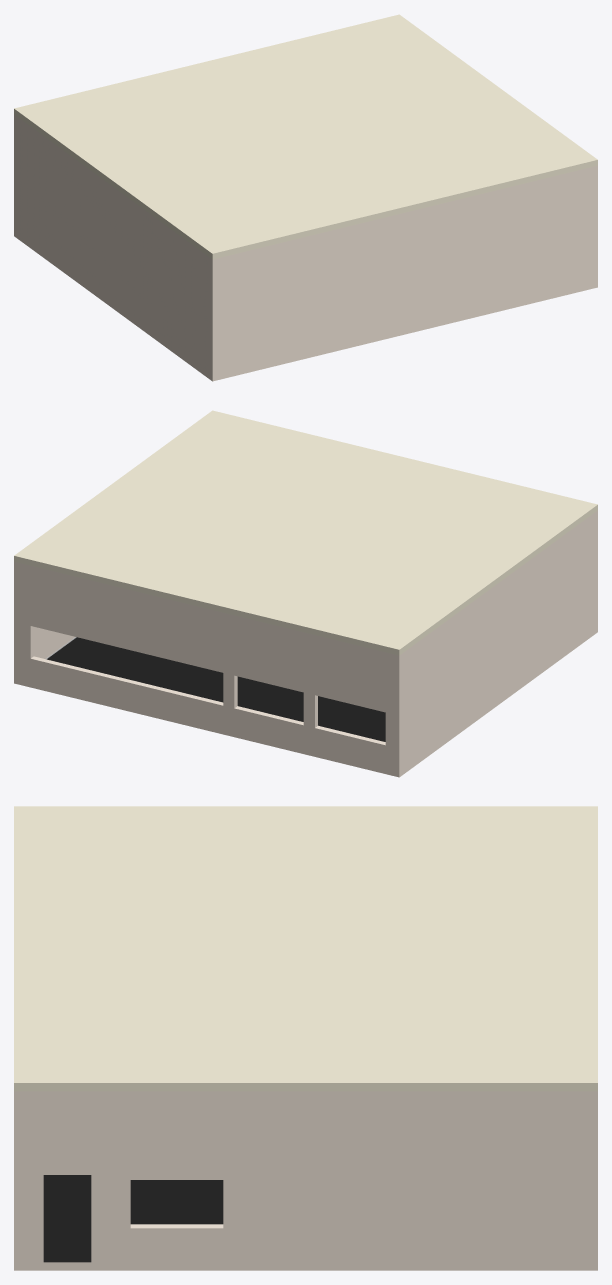
The model's file is OfficeShell.fbx.
3 renders of one model, top to bottom at view 1: azimuth 30°, elevation 25°; view 2: azimuth 150°, elevation 25°; view 3: azimuth 270°, elevation 25°, orthographic. The views are drawn at different scales.
Visible parts, largest first — view 1: Roof, FloorWalls; view 2: Roof, FloorWalls; view 3: Roof, FloorWalls.
Boxes of the visible parts, <box> form: Roof: <box>14,14,597,259</box>; FloorWalls: <box>14,114,597,381</box>; Roof: <box>14,410,597,655</box>; FloorWalls: <box>14,510,597,777</box>; Roof: <box>14,806,597,1091</box>; FloorWalls: <box>14,1091,597,1270</box>.
Size of the model in its own units: 1390 by 1240 by 440.
